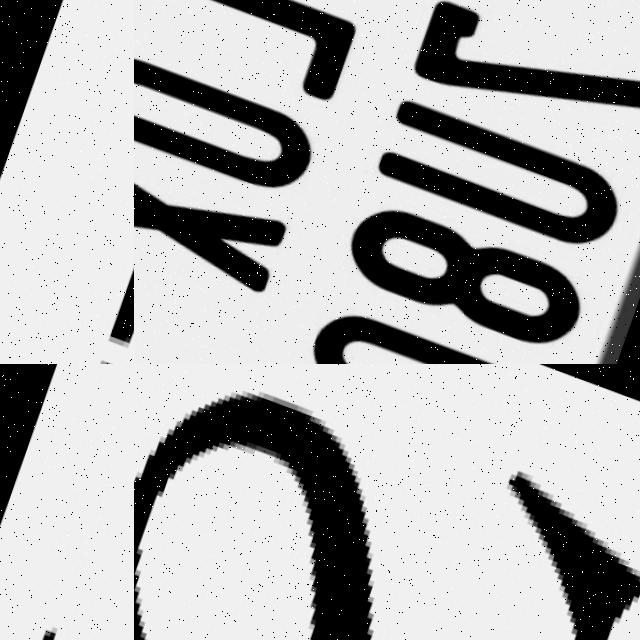0: (134, 35, 325, 200)
7: (404, 0, 640, 156)
8: (337, 190, 601, 359)
G: (299, 293, 565, 364)
L: (134, 0, 358, 98), (0, 485, 134, 640)
S: (134, 364, 640, 640)
U: (370, 88, 634, 255)
W: (37, 0, 134, 364)
X: (134, 136, 294, 297)
